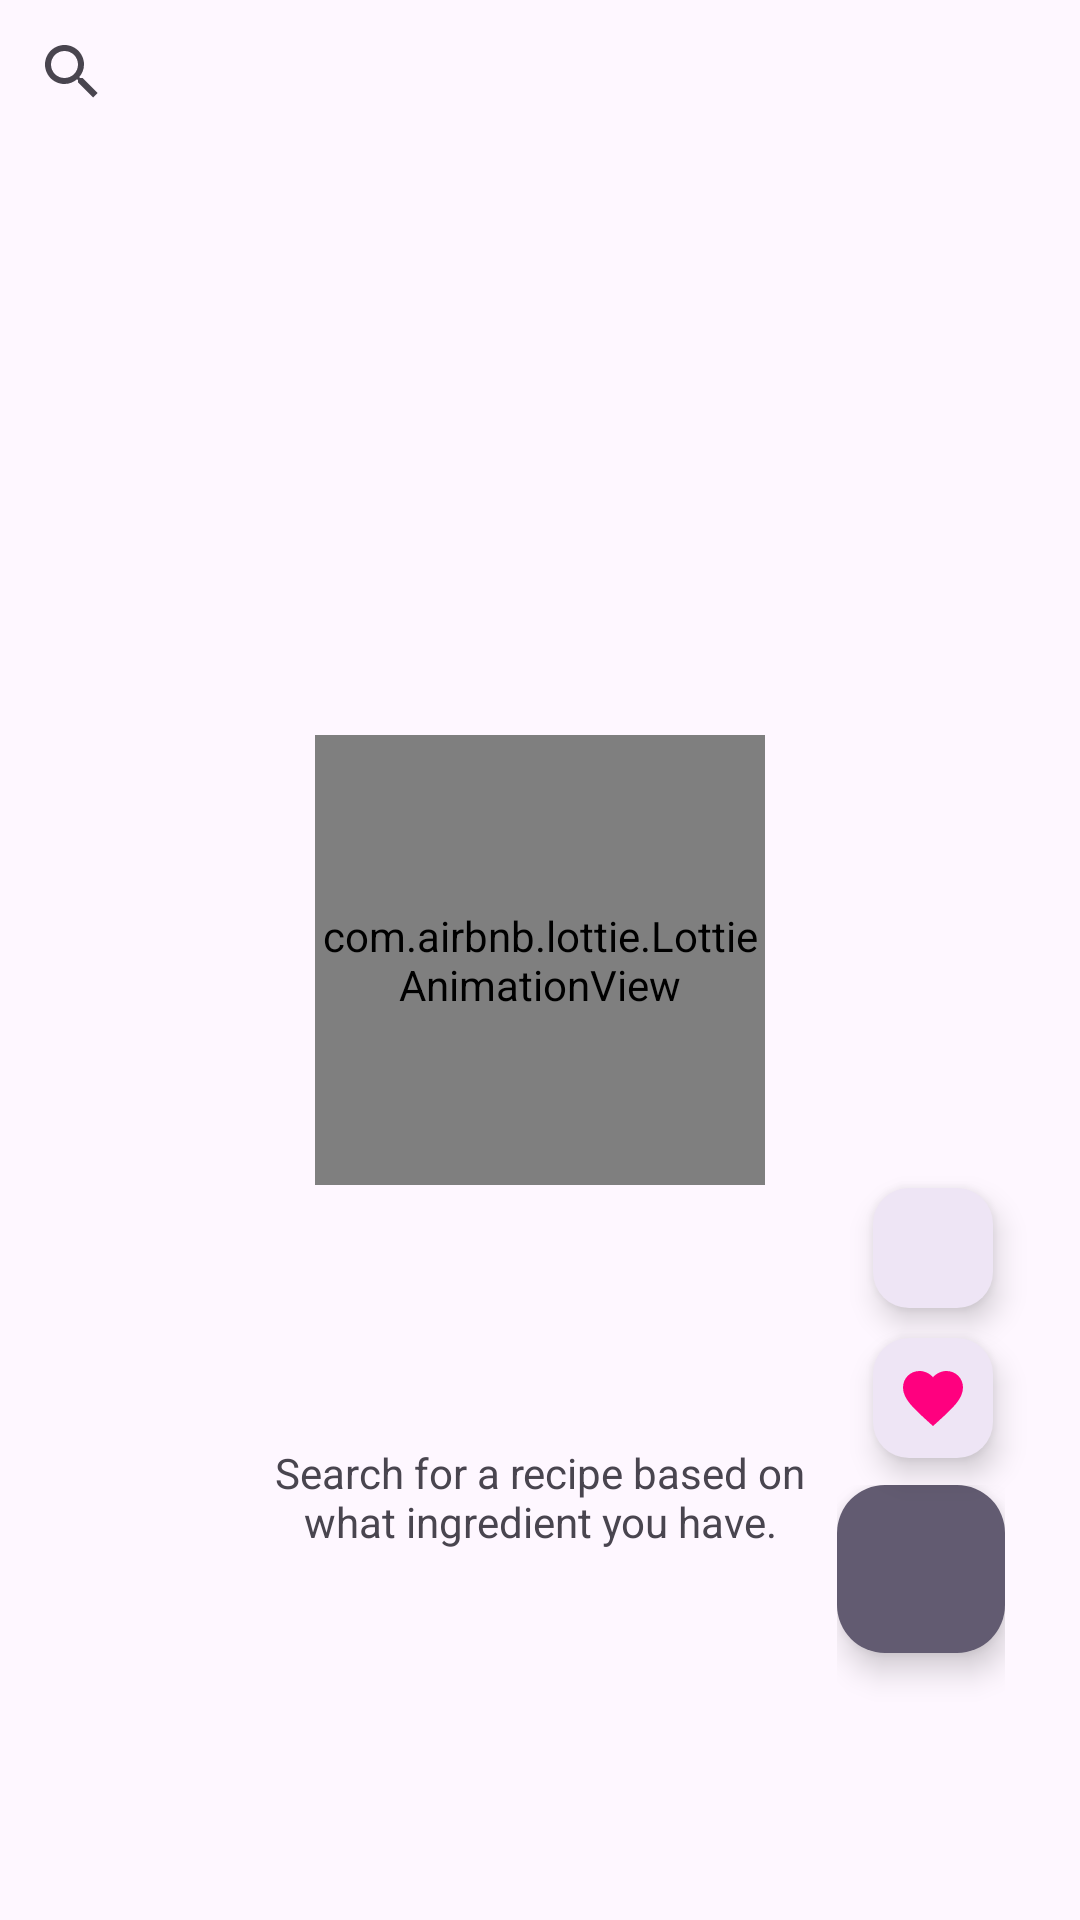

Point at icon controls on the screen. Image size 1080x1920, points as (x,y).
favorite: (936,1398)
